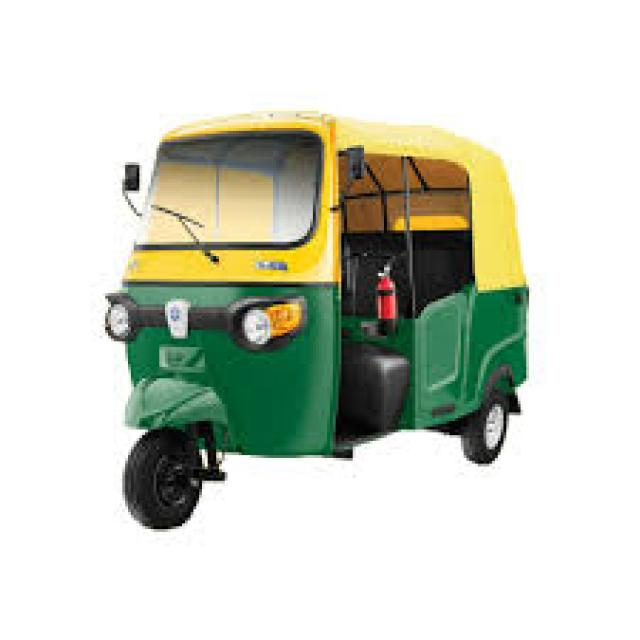tuktuk: (57, 84, 562, 559)
